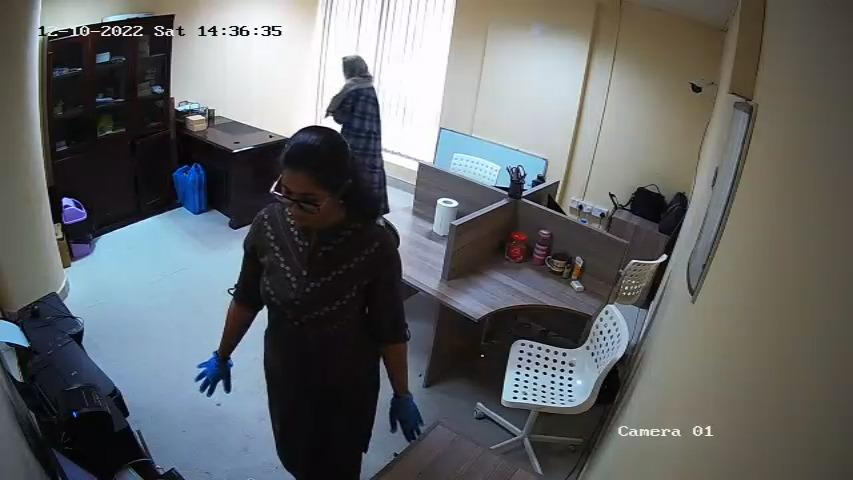gloves: (385, 391, 425, 447), (196, 348, 235, 402)
